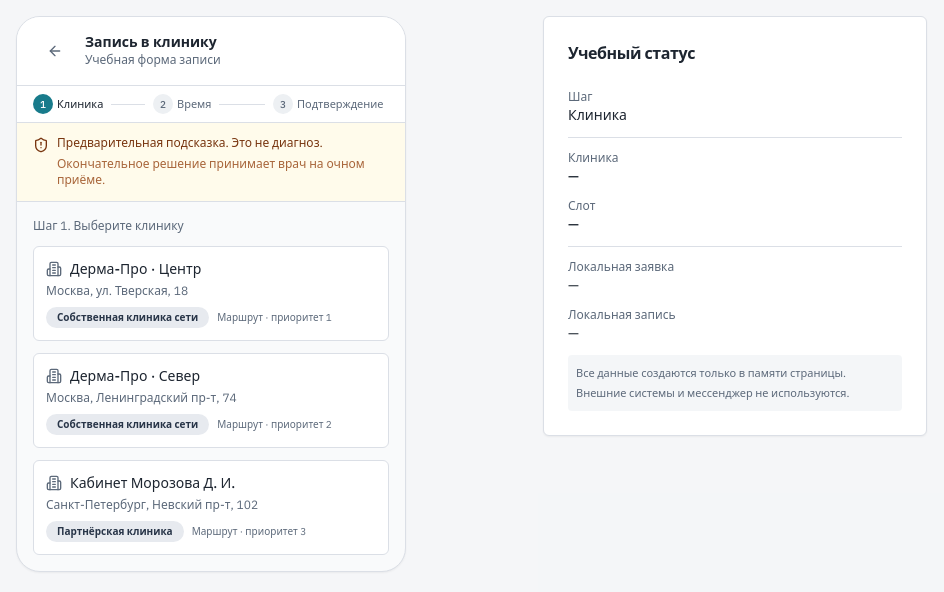
Test: BotMiniAppBookingPage a11y › кнопка 'Продолжить' на шаге слота disabled, пока слот не выбран
The width and height of the screenshot is (944, 592).
Click the button "Дерма-Про · Центр" at (136, 268), box [33, 246, 389, 340]
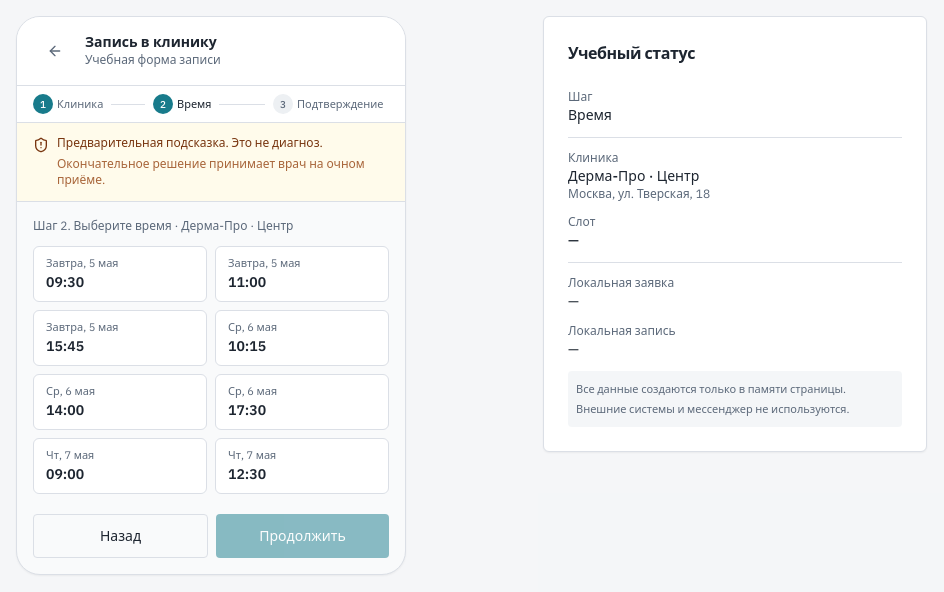
Expected: the button "Продолжить" is disabled, [216, 514, 389, 558]
Click the button "Завтра, 5 мая 09:30" at (120, 274), box [33, 246, 207, 302]
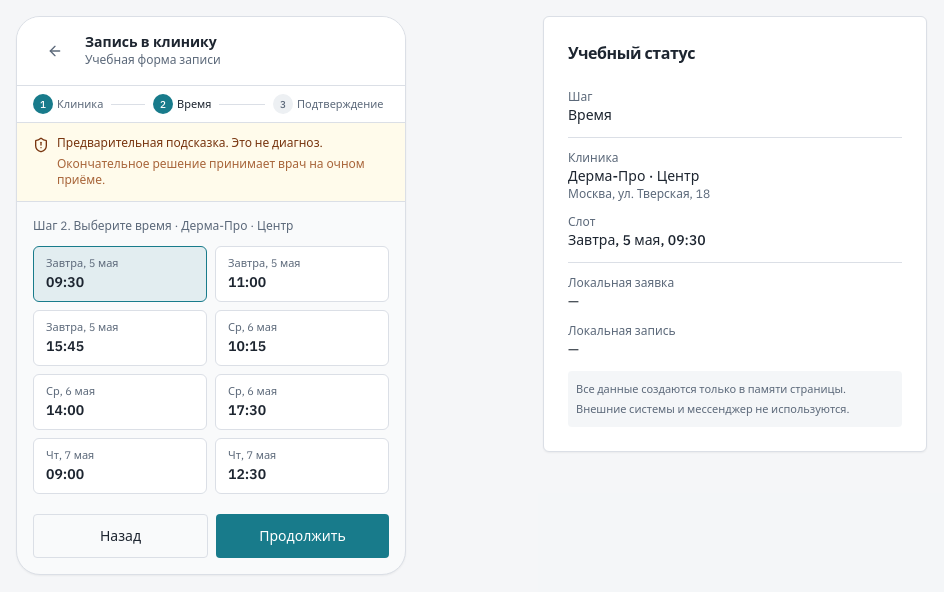
Expected: the button "Продолжить" is enabled, [216, 514, 389, 558]
